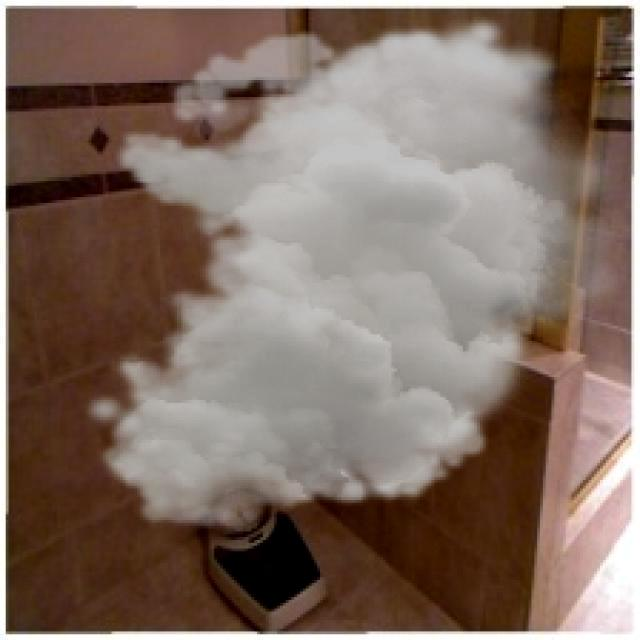Smoke: (80, 15, 631, 532)
